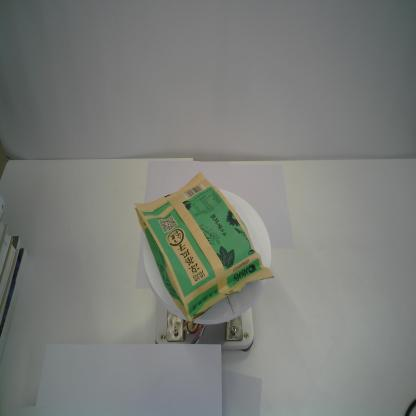Dried Food: (132, 169, 274, 325)
